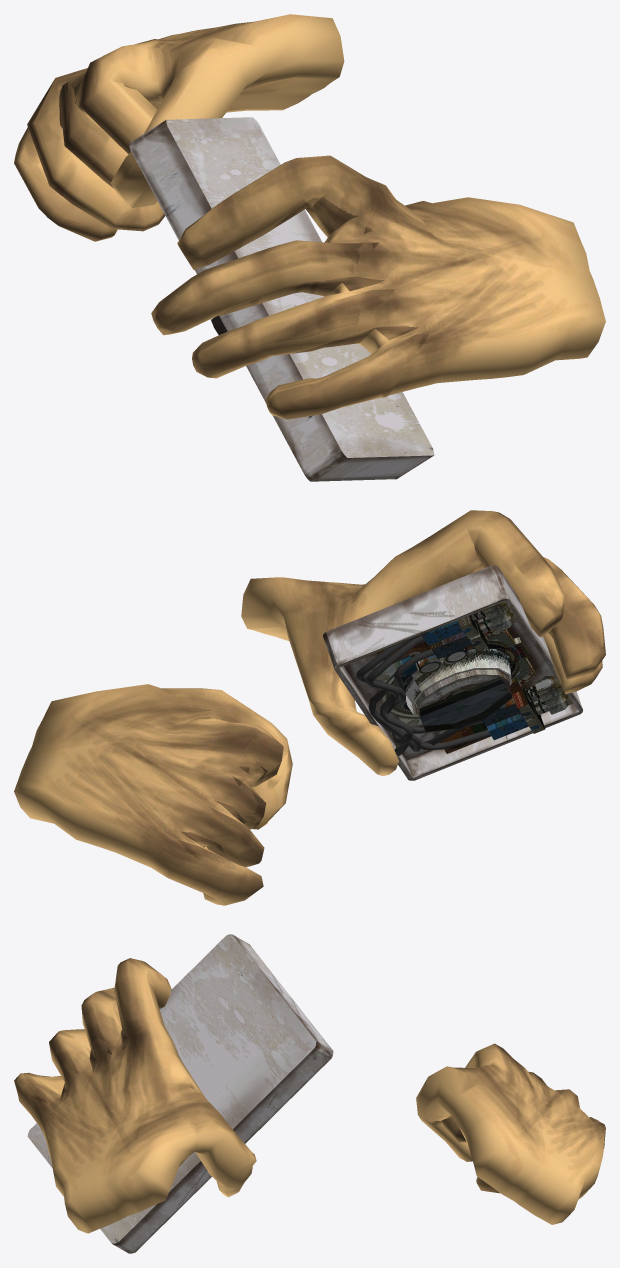
Rendered from dealer hands_inverter1.glb.
3 renders of one model, top to bottom at view 1: azimuth 30°, elevation 25°; view 2: azimuth 150°, elevation 25°; view 3: azimuth 270°, elevation 25°, orthographic. The views are drawn at different scales.
Visible parts, largest first — view 1: Plane_007, Plane_008, inverter shattered frame, inverter main parent; view 2: Plane_008, Plane_007, inverter main parent, inverter part, inverter shattered frame, inverter part_006, inverter part_001, inverter part_003, inverter part_004, inverter part_002; view 3: Plane_007, inverter shattered frame, Plane_008, inverter main parent.
Part boxes in pixels (x1,y1,x2,y2): Plane_007: [151, 155, 605, 419]; Plane_008: [14, 14, 344, 241]; inverter shattered frame: [129, 117, 434, 481]; inverter main parent: [129, 120, 420, 481]; Plane_008: [14, 684, 292, 905]; Plane_007: [241, 510, 605, 775]; inverter main parent: [323, 565, 582, 780]; inverter part: [375, 629, 535, 731]; inverter shattered frame: [323, 565, 582, 780]; inverter part_006: [440, 678, 545, 753]; inverter part_001: [377, 615, 488, 664]; inverter part_003: [525, 675, 563, 701]; inverter part_004: [476, 608, 518, 633]; inverter part_002: [533, 691, 573, 714]; Plane_007: [14, 958, 256, 1233]; inverter shattered frame: [27, 934, 332, 1252]; Plane_008: [416, 1043, 605, 1224]; inverter main parent: [116, 934, 333, 1253].
Bounding box in the file's own units: 3.76 × 2.98 × 6.15.
4 materials, 3 textured.
